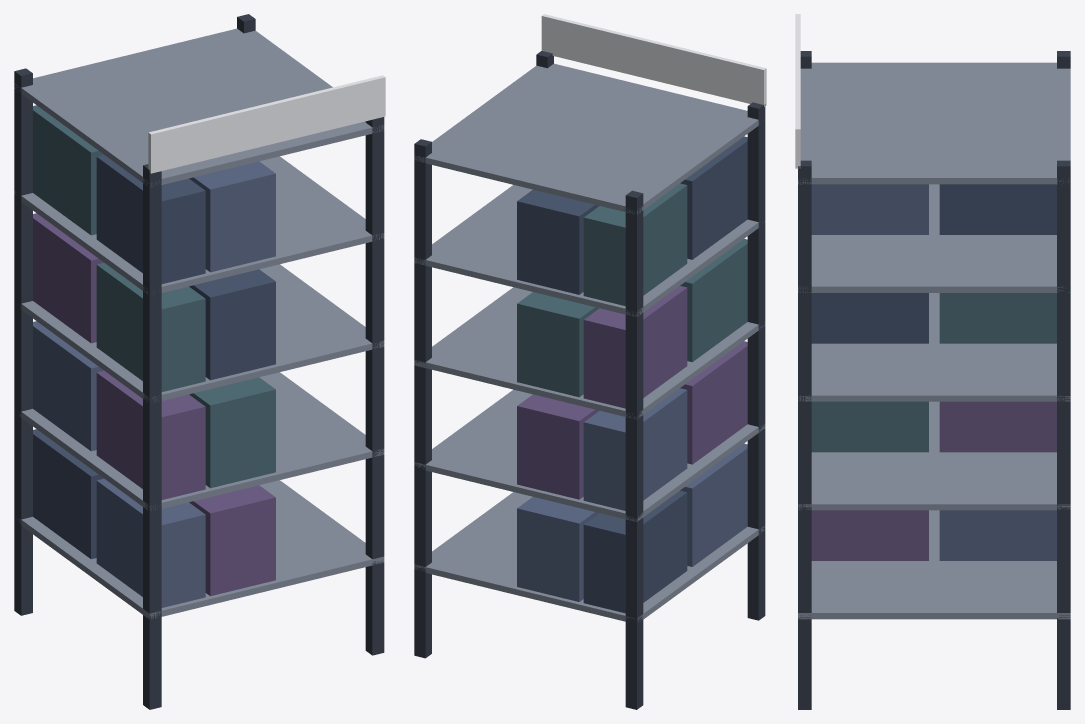
The model's file is shelfPod.glb.
3 views of the same model, side by side, from view 1: azimuth 30°, elevation 25°; view 2: azimuth 150°, elevation 25°; view 3: azimuth 270°, elevation 25° (orthographic). The views are drawn at different scales.
Visible parts, largest first — view 1: shelfPod, shelf4, label, shelf0, shelf1, shelf2, shelf3, bin0b, bin30b, bin10b, bin20b, bin1b (+7 smaller); view 2: shelf4, shelfPod, label, shelf1, shelf3, shelf2, shelf0, bin10a, bin30a, bin0a, bin20a, bin21a (+7 smaller); view 3: shelf4, shelfPod, shelf0, shelf1, shelf2, shelf3, bin11a, bin11b, bin1a, bin1b, bin21a, bin21b (+3 smaller).
Boxes of the visible parts, <box> form: shelfPod: <box>14,14,384,709</box>; shelf4: <box>14,28,384,187</box>; label: <box>148,75,385,173</box>; shelf0: <box>16,480,384,619</box>; shelf1: <box>19,372,384,510</box>; shelf2: <box>20,264,384,402</box>; shelf3: <box>14,156,384,293</box>; bin0b: <box>96,478,205,607</box>; bin30b: <box>96,155,205,283</box>; bin10b: <box>96,370,205,499</box>; bin20b: <box>96,263,205,391</box>; bin1b: <box>189,485,275,596</box>; shelf4: <box>414,63,759,214</box>; shelfPod: <box>414,51,765,709</box>; label: <box>541,14,766,106</box>; shelf1: <box>414,389,765,521</box>; shelf3: <box>414,185,765,316</box>; shelf2: <box>414,287,764,419</box>; shelf0: <box>414,492,765,621</box>; bin10a: <box>583,388,687,510</box>; bin30a: <box>583,183,687,305</box>; bin0a: <box>583,490,687,613</box>; bin20a: <box>583,286,687,408</box>; bin21a: <box>517,292,599,397</box>; shelf4: <box>798,62,1070,184</box>; shelfPod: <box>798,51,1070,709</box>; shelf0: <box>798,510,1070,619</box>; shelf1: <box>798,401,1070,510</box>; shelf2: <box>798,293,1070,401</box>; shelf3: <box>798,184,1070,292</box>; bin11a: <box>939,401,1056,452</box>; bin11b: <box>811,401,928,452</box>; bin1a: <box>939,510,1056,560</box>; bin1b: <box>811,510,928,560</box>; bin21a: <box>939,293,1056,343</box>; bin21b: <box>811,293,928,343</box>.
Size of the model in its own units: 1 by 2.35 by 1.01.
